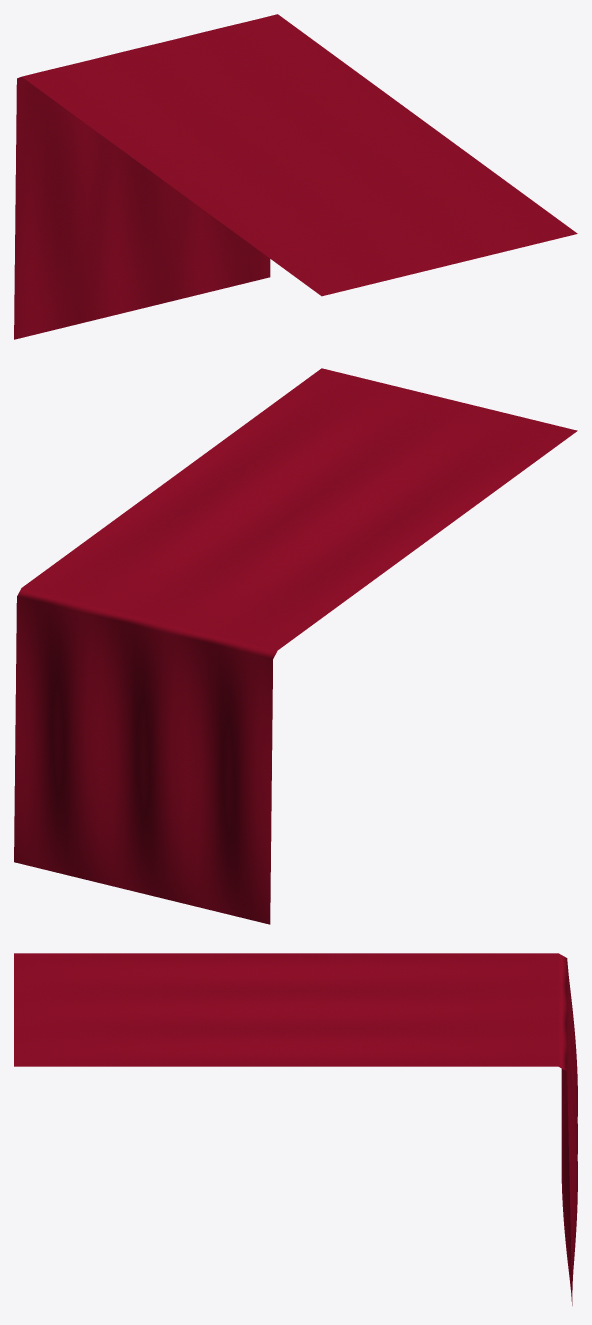
File: merchant_cloth.gltf
The picture shows the model from 3 angles, top to bottom: view 1: azimuth 30°, elevation 25°; view 2: azimuth 150°, elevation 25°; view 3: azimuth 270°, elevation 25°; orthographic projection. The views are drawn at different scales.
Parts seen in each view (by area): view 1: merchant_cloth; view 2: merchant_cloth; view 3: merchant_cloth.
Part boxes in pixels (bbox=[...]): merchant_cloth: bbox=[14, 14, 577, 339]; merchant_cloth: bbox=[14, 368, 577, 924]; merchant_cloth: bbox=[14, 953, 577, 1305].
Bounding box in the file's own units: 0.5 × 0.504 × 1.05.
1 material, 1 textured.
